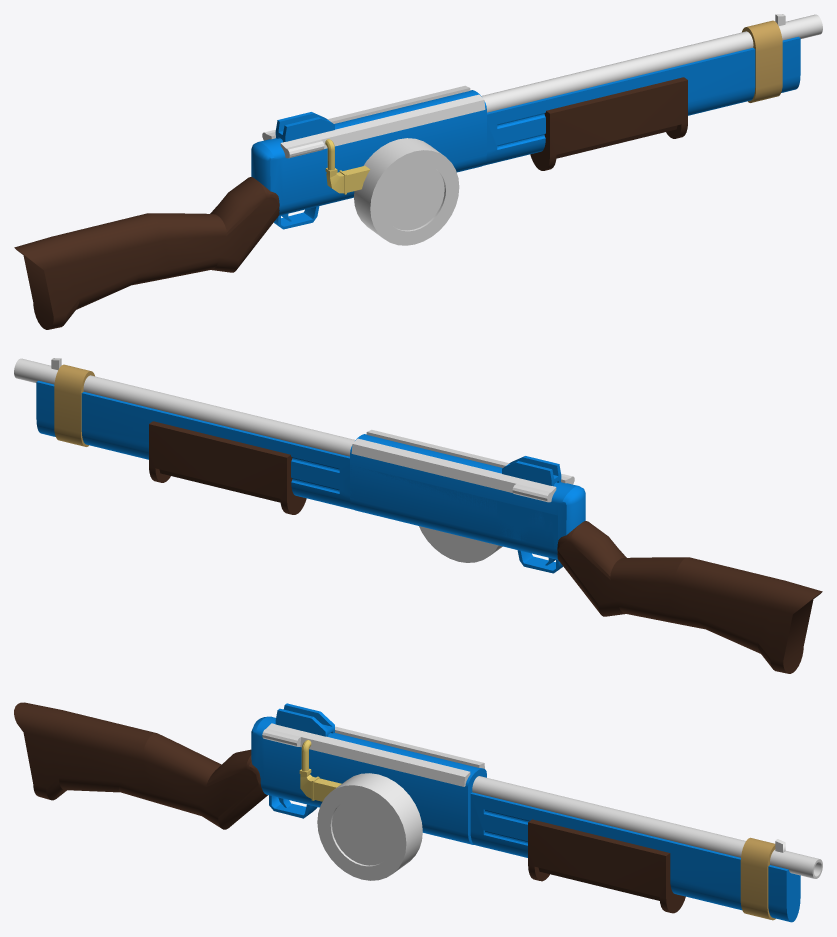
File: gun.fbx
The picture shows the model from 3 angles, top to bottom: view 1: azimuth 30°, elevation 25°; view 2: azimuth 150°, elevation 25°; view 3: azimuth 330°, elevation 25°; orthographic projection.
Parts seen in each view (by area): view 1: 개머리판, 총몸, 총열덮개, 증기통, 장전손잡이, 총열, 총몸고정대, 총열 고정대, 연결관; view 2: 개머리판, 총몸, 총열덮개, 장전손잡이, 총열, 총몸고정대, 총열 고정대, 증기통; view 3: 개머리판, 총몸, 총열덮개, 증기통, 장전손잡이, 총열, 총몸고정대, 총열 고정대, 연결관.
Part boxes in pixels (<box>): 개머리판: <box>14,177,279,329</box>; 총몸: <box>251,90,486,229</box>; 총열덮개: <box>483,36,800,165</box>; 증기통: <box>354,138,459,245</box>; 장전손잡이: <box>530,77,687,170</box>; 총열: <box>481,14,822,112</box>; 총몸고정대: <box>262,85,485,158</box>; 총열 고정대: <box>742,20,782,102</box>; 연결관: <box>325,139,370,194</box>; 개머리판: <box>557,521,822,673</box>; 총몸: <box>350,434,585,573</box>; 총열덮개: <box>36,380,353,509</box>; 장전손잡이: <box>149,421,306,514</box>; 총열: <box>14,358,355,456</box>; 총몸고정대: <box>351,429,574,502</box>; 총열 고정대: <box>54,364,94,446</box>; 증기통: <box>419,526,502,562</box>; 개머리판: <box>14,702,267,829</box>; 총몸: <box>251,703,486,844</box>; 총열덮개: <box>470,792,800,922</box>; 증기통: <box>317,773,422,880</box>; 장전손잡이: <box>528,819,685,913</box>; 총열: <box>472,776,822,878</box>; 총몸고정대: <box>262,723,484,786</box>; 총열 고정대: <box>740,837,775,920</box>; 연결관: <box>299,740,341,801</box>.
Size of the model in its own units: 1078 by 190 by 94.
